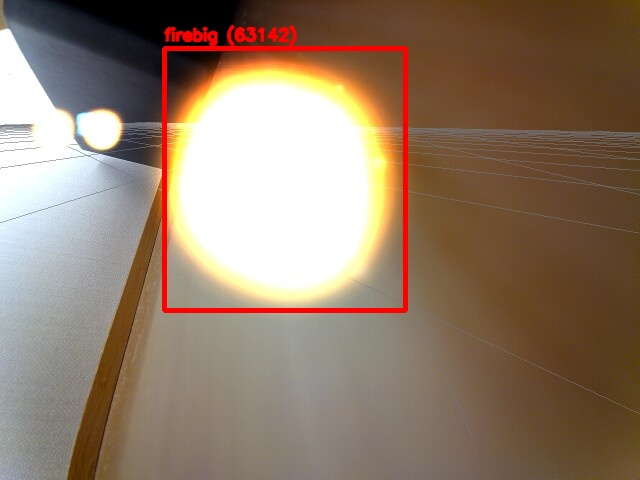firebig: (164, 48, 405, 310)
